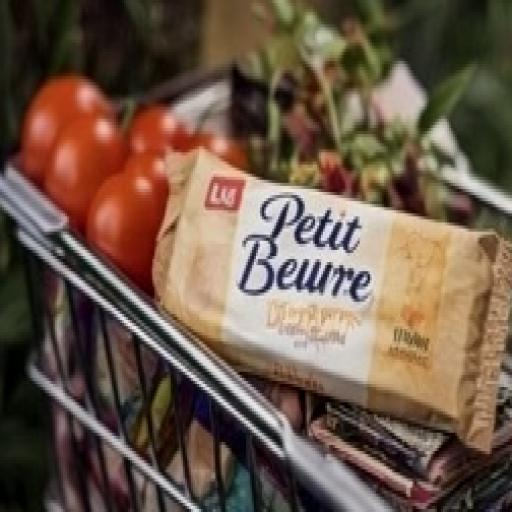petit-beurre: (132, 116, 512, 463)
